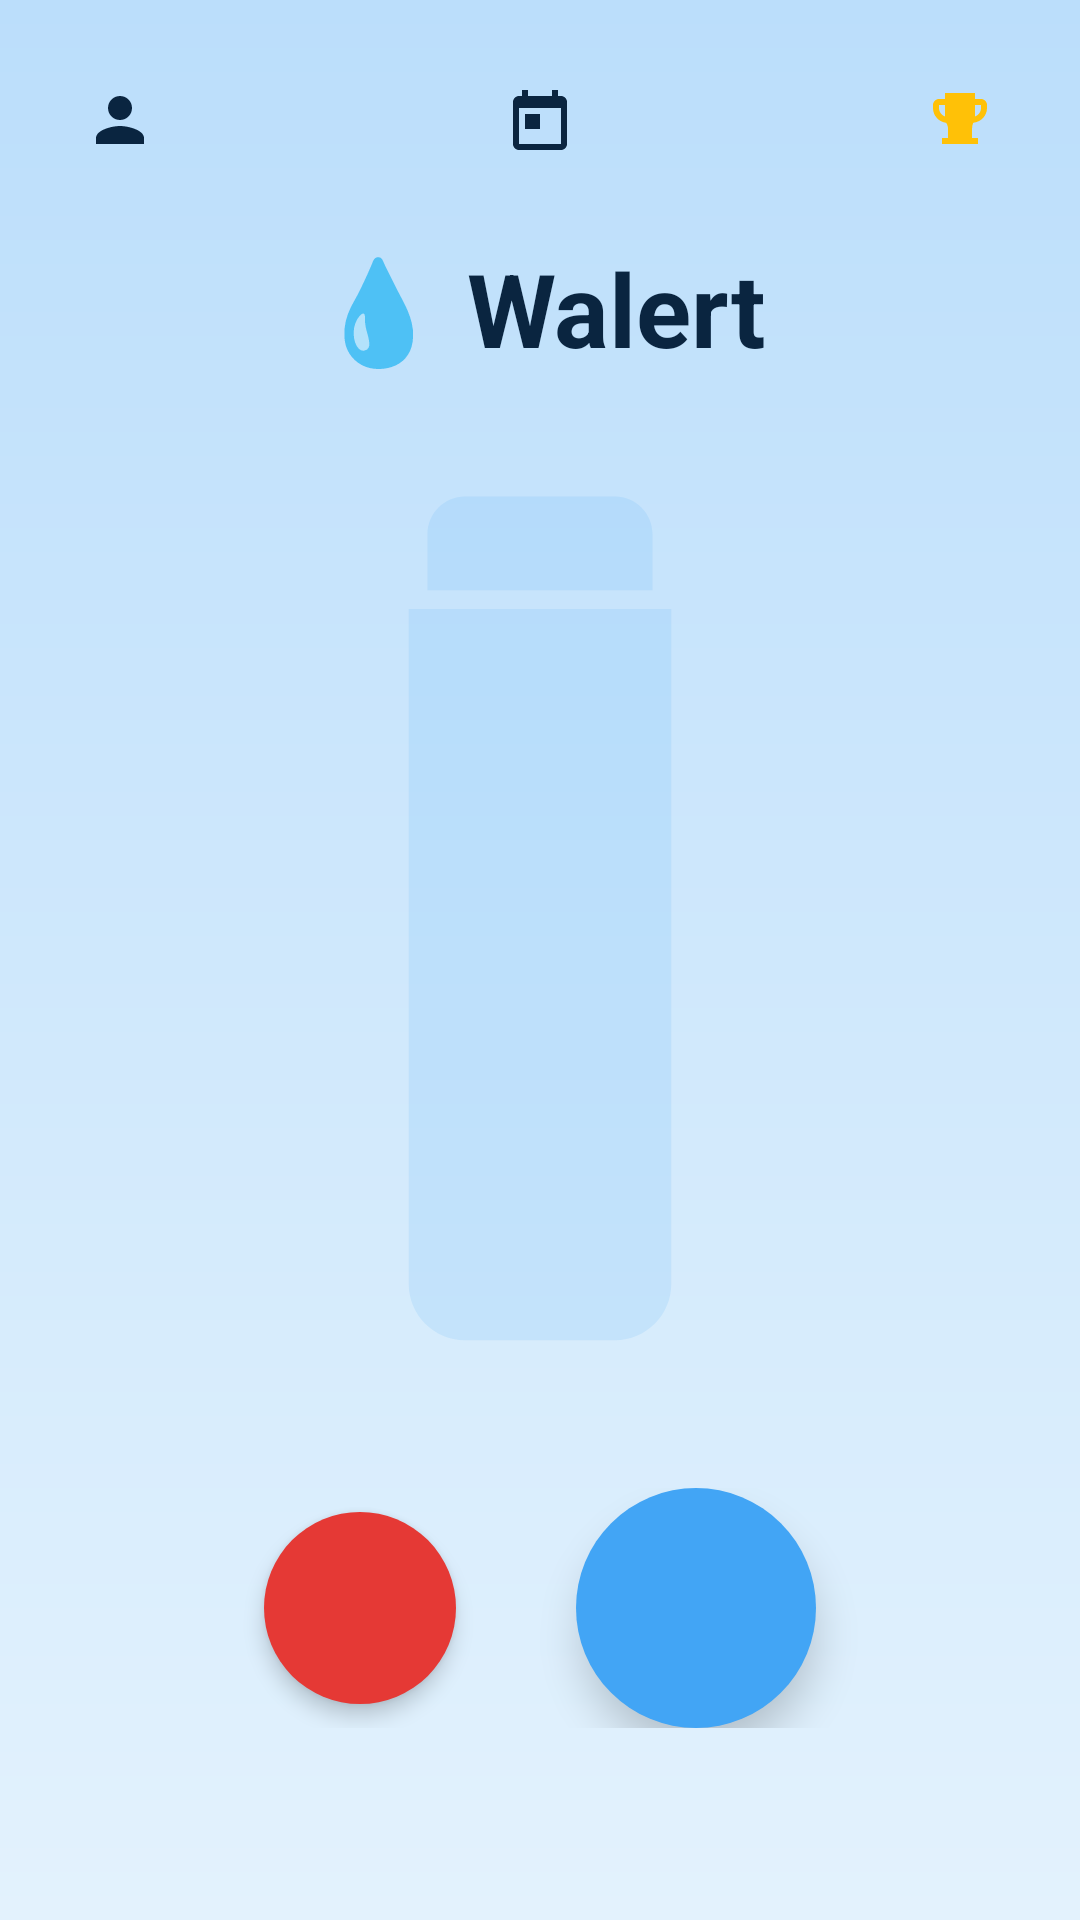

Icon click points for this 1080w x 1920h phone screenshot, format [x,y]:
Ver calendario de metas: [540,120]
Ver logros: [960,118]
Ver perfil: [120,120]
